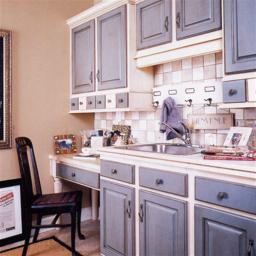Lavaplatos: (109, 123, 203, 166)
